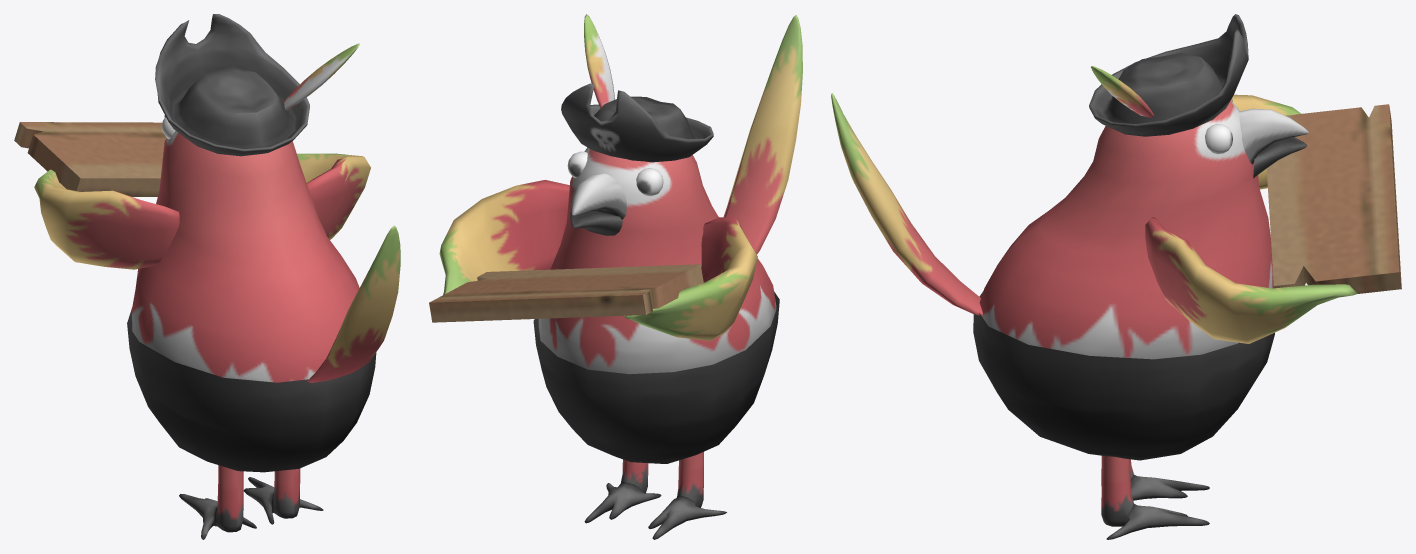
File: oumu_idle_c_07.fbx
The picture shows the model from 3 angles, left to right: view 1: azimuth 30°, elevation 25°; view 2: azimuth 150°, elevation 25°; view 3: azimuth 270°, elevation 25°; orthographic projection. The views are drawn at different scales.
Parts seen in each view (by area): view 1: I_c_07; view 2: I_c_07; view 3: I_c_07.
Boxes of the visible parts, box(x1,y1,x2,y2) form: I_c_07: box(14, 14, 400, 539); I_c_07: box(429, 14, 802, 539); I_c_07: box(831, 14, 1401, 539).
Bounding box in the file's own units: 1.44 × 2.03 × 2.14.
Materials: 1 (1 with a texture image).
